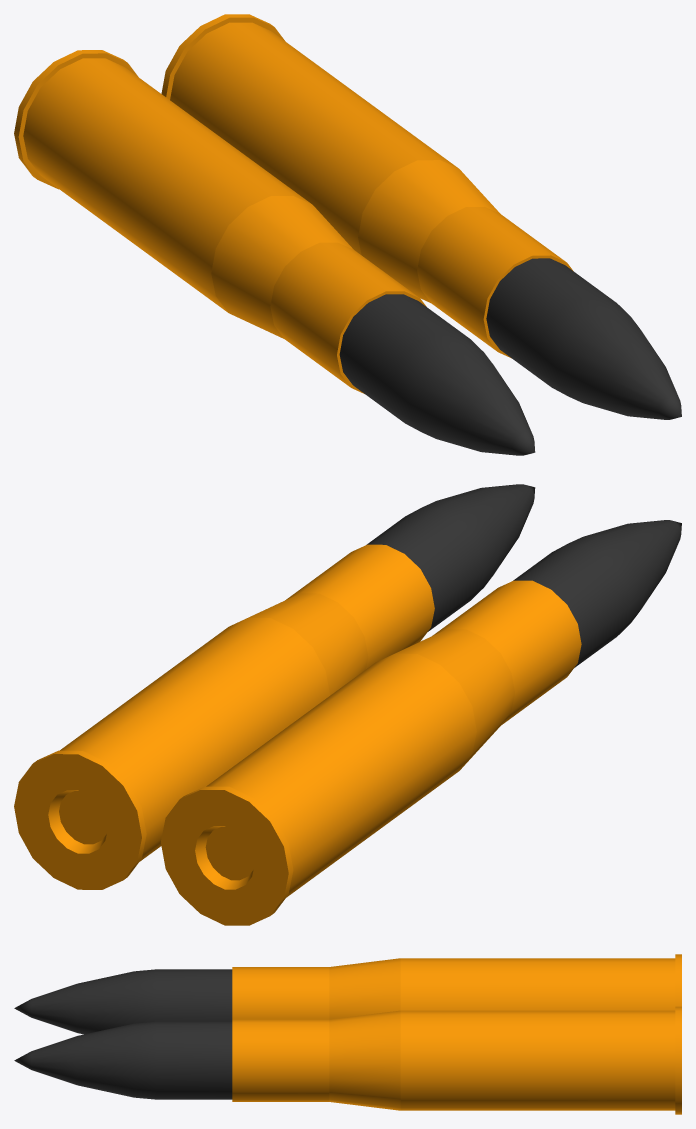
Rendered from 2Shells.fbx.
The picture shows the model from 3 angles, top to bottom: view 1: azimuth 30°, elevation 25°; view 2: azimuth 150°, elevation 25°; view 3: azimuth 270°, elevation 25°; orthographic projection. The views are drawn at different scales.
Parts seen in each view (by area): view 1: Cylinder.001; view 2: Cylinder.001; view 3: Cylinder.001.
Boxes of the visible parts, left/top/right/bottom form: Cylinder.001: left=14, top=14, right=681, bottom=455; Cylinder.001: left=14, top=484, right=681, bottom=925; Cylinder.001: left=14, top=954, right=681, bottom=1114.
Size of the model in its own units: 0.9364 by 0.4412 by 2.7.
